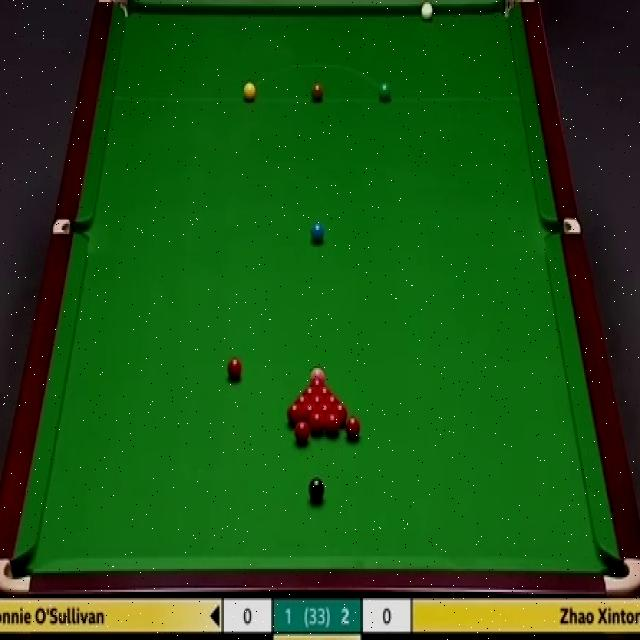black-ball: (308, 476, 324, 503)
blue-ball: (310, 222, 324, 240)
brown-ball: (310, 84, 324, 101)
green-ball: (378, 80, 392, 104)
pink-ball: (310, 367, 327, 385)
red-ball: (287, 401, 304, 427), (325, 411, 341, 438), (344, 415, 360, 441), (294, 419, 310, 441), (228, 357, 242, 382), (316, 403, 334, 422), (310, 411, 325, 433), (332, 402, 348, 422), (324, 392, 341, 408), (304, 404, 316, 424), (295, 392, 311, 407), (310, 392, 325, 408), (317, 383, 331, 399), (303, 385, 318, 398)
white-ball: (420, 2, 433, 22)
yellow-ball: (242, 81, 257, 102)
